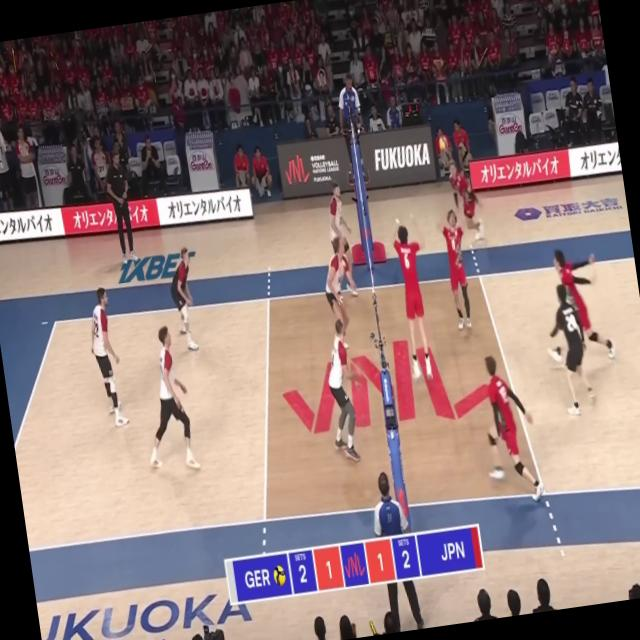referee: (365, 467, 425, 634)
team_one: (133, 323, 200, 478), (318, 319, 367, 465), (83, 285, 131, 430), (318, 236, 359, 352), (164, 246, 203, 356), (324, 184, 360, 300)
team_two: (472, 350, 546, 510), (535, 242, 617, 368), (387, 209, 443, 382), (546, 282, 598, 418), (433, 206, 480, 334), (447, 159, 488, 245)
